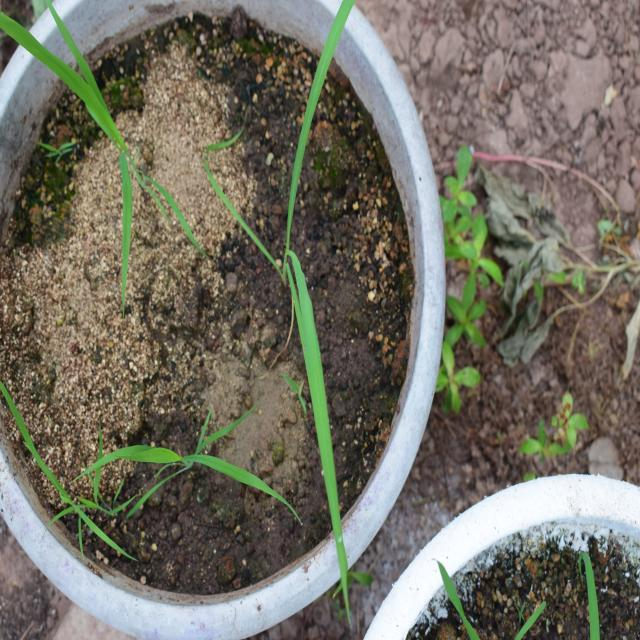barnyard_grass: (242, 0, 376, 613)
